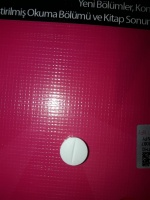Arveles: (58, 136, 90, 167)
